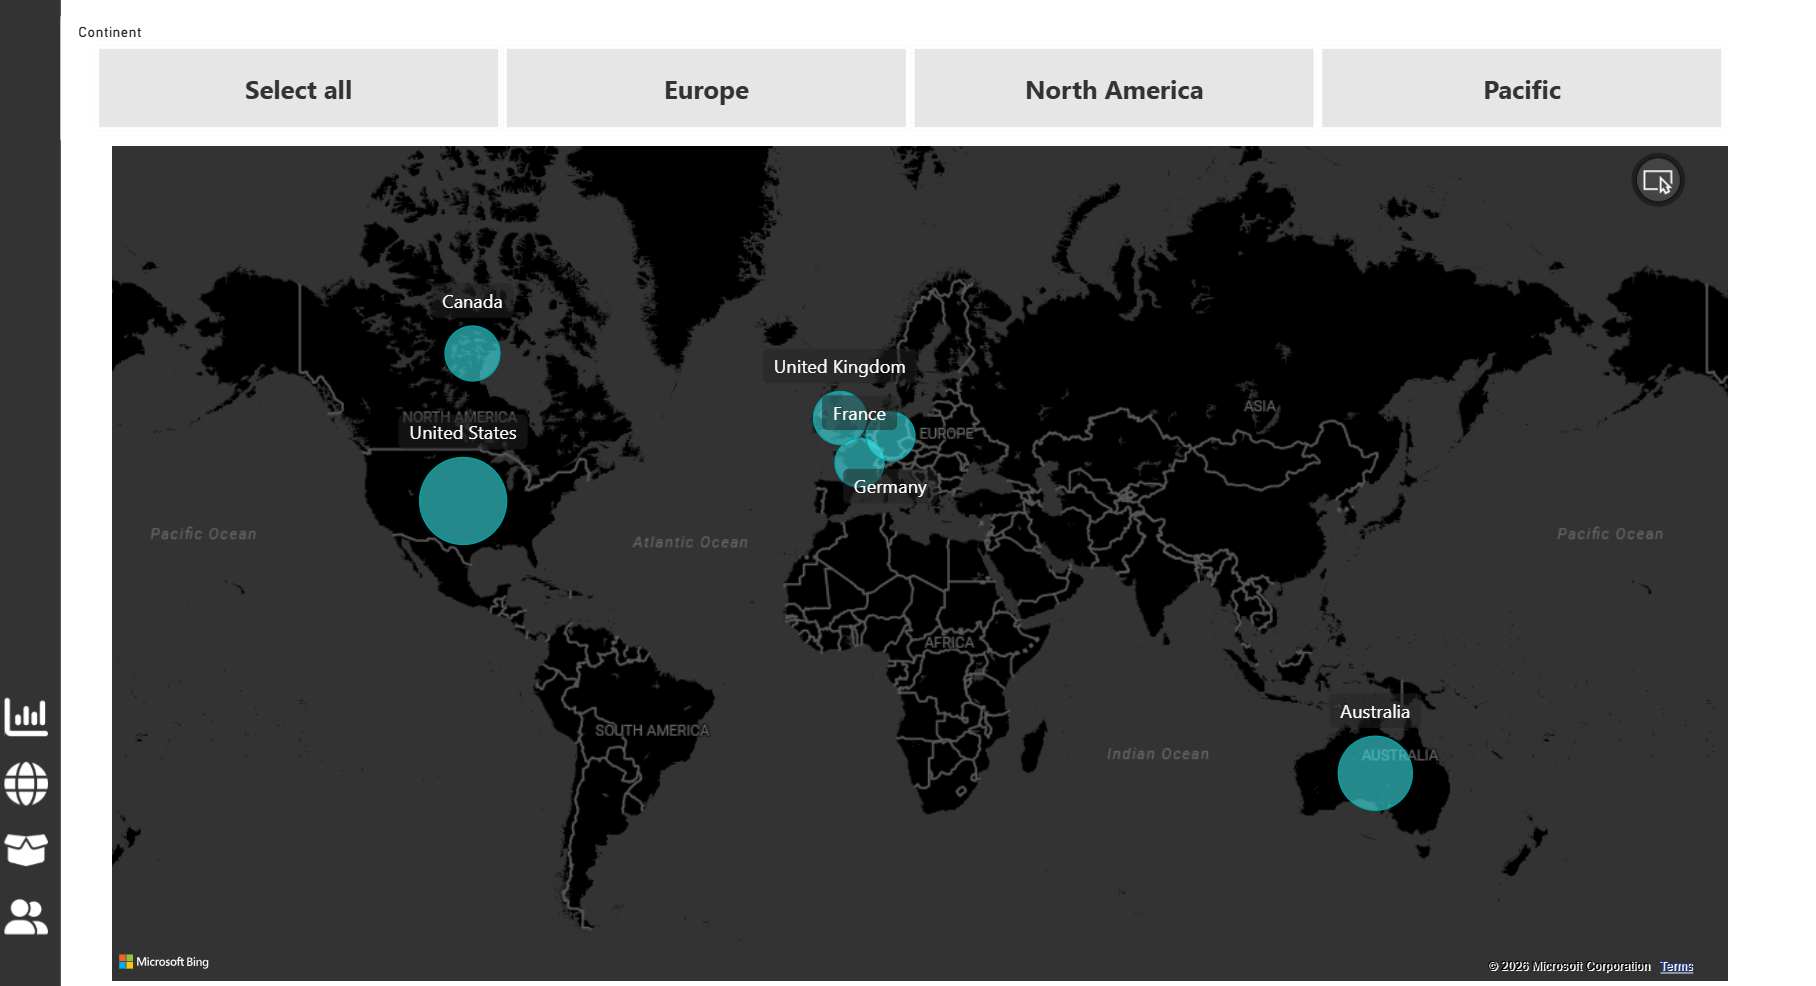

This screenshot's page, from the dashboard's own definition file:
{"tool":"powerbi","page":{"name":"Map","canvas":[1280,720],"ordinal":1},"visuals":[{"type":"shape","box":[0,0,45,720],"z":0},{"type":"actionButton","box":[0,502.2,62.2,39.8],"z":0,"group":"g1"},{"type":"map","fields":{"Category":["Territory Lookup.Country"],"Size":["Measure Table.Total Orders"]},"box":[77.1,101.9,1186,617.9],"z":1000},{"type":"actionButton","box":[0,599.2,62.2,39.8],"z":1000,"group":"g1"},{"type":"slicer","fields":{"Values":["Territory Lookup.Continent"]},"box":[44.8,12.4,1235.7,89.5],"z":2000},{"type":"actionButton","box":[0,647.7,62.2,39.8],"z":2000,"group":"g1"},{"type":"group","id":"g1","title":"Navigation Buttons","box":[0,502.2,62.2,185.2],"z":3000},{"type":"actionButton","box":[0,550.7,62.2,39.8],"z":3000,"group":"g1"}]}

Visuals, with their boxes on the page's 1280x720 design canvas (x1, y1, x2, y2). These are canvas units, not pixel positions in the 1816x986 screenshot, which may show the page scaled, cropped or inside an application window:
shape: region(0, 0, 45, 720)
actionButton: region(0, 502, 62, 542)
map - Territory Lookup.Country x Measure Table.Total Orders: region(77, 102, 1263, 720)
actionButton: region(0, 599, 62, 639)
slicer - Territory Lookup.Continent: region(45, 12, 1280, 102)
actionButton: region(0, 648, 62, 688)
"Navigation Buttons" group: region(0, 502, 62, 687)
actionButton: region(0, 551, 62, 590)
